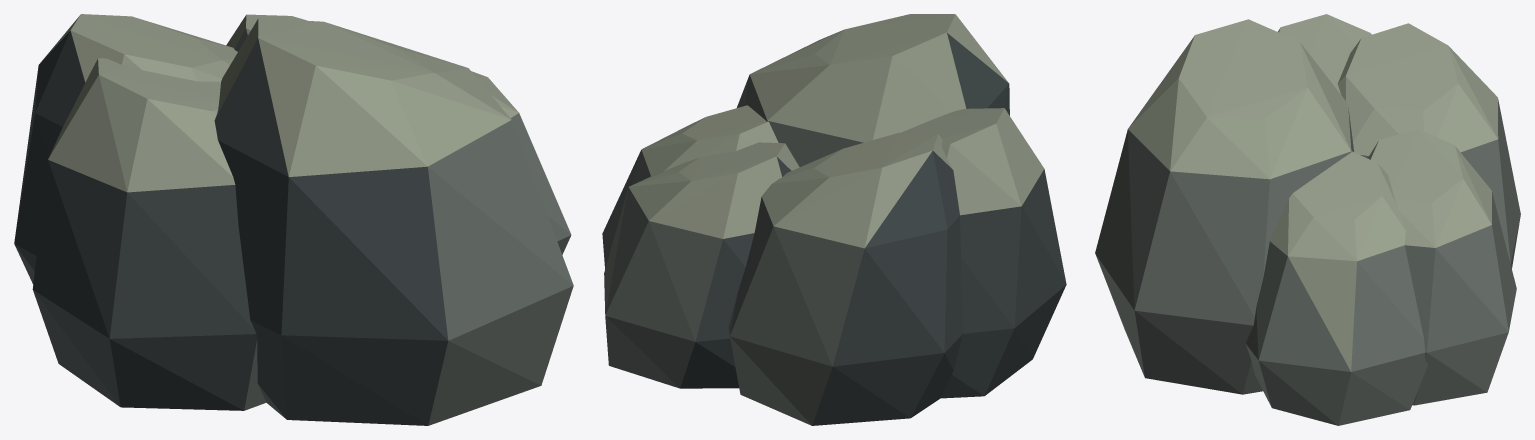
The model's file is TW_ROCK_CLUSTER_LARGE_A_LOD0.glb.
The picture shows the model from 3 angles, left to right: view 1: azimuth 30°, elevation 25°; view 2: azimuth 150°, elevation 25°; view 3: azimuth 270°, elevation 25°; orthographic projection. The views are drawn at different scales.
Parts seen in each view (by area): view 1: TW_ROCK_CLUSTER_LARGE_A_LOD0; view 2: TW_ROCK_CLUSTER_LARGE_A_LOD0; view 3: TW_ROCK_CLUSTER_LARGE_A_LOD0.
Boxes of the visible parts, x1,y1,x2,y2 form: TW_ROCK_CLUSTER_LARGE_A_LOD0: (14, 14, 573, 425); TW_ROCK_CLUSTER_LARGE_A_LOD0: (602, 14, 1066, 425); TW_ROCK_CLUSTER_LARGE_A_LOD0: (1095, 14, 1520, 425).
Bounding box in the file's own units: 1.61 × 1.08 × 1.51.
1 material, 1 textured.
